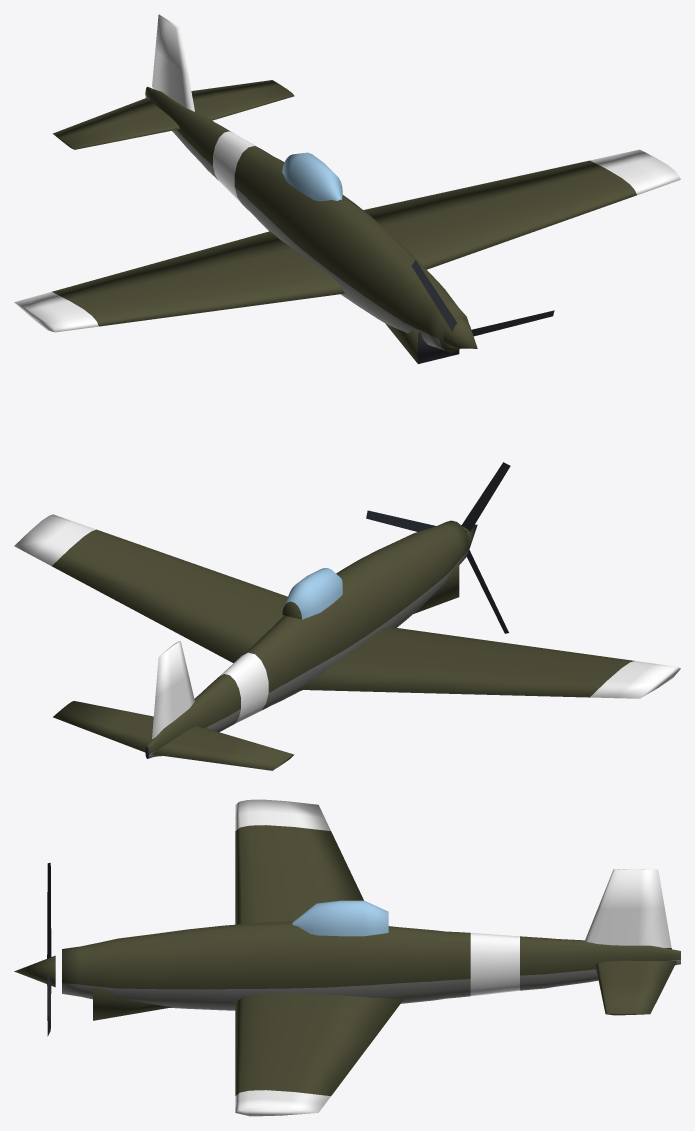
3 renders of one model, top to bottom at view 1: azimuth 30°, elevation 25°; view 2: azimuth 150°, elevation 25°; view 3: azimuth 270°, elevation 25°, orthographic.
Parts seen in each view (by area): view 1: body, prop; view 2: body, prop; view 3: body, prop.
Boxes of the visible parts, x1,y1,x2,y2 form: body: (14, 14, 680, 363); prop: (411, 260, 554, 348); body: (14, 514, 680, 770); prop: (366, 462, 510, 633); body: (62, 799, 680, 1116); prop: (14, 862, 55, 1036).
Size of the model in its own units: 11.38 by 3.26 by 10.41.
